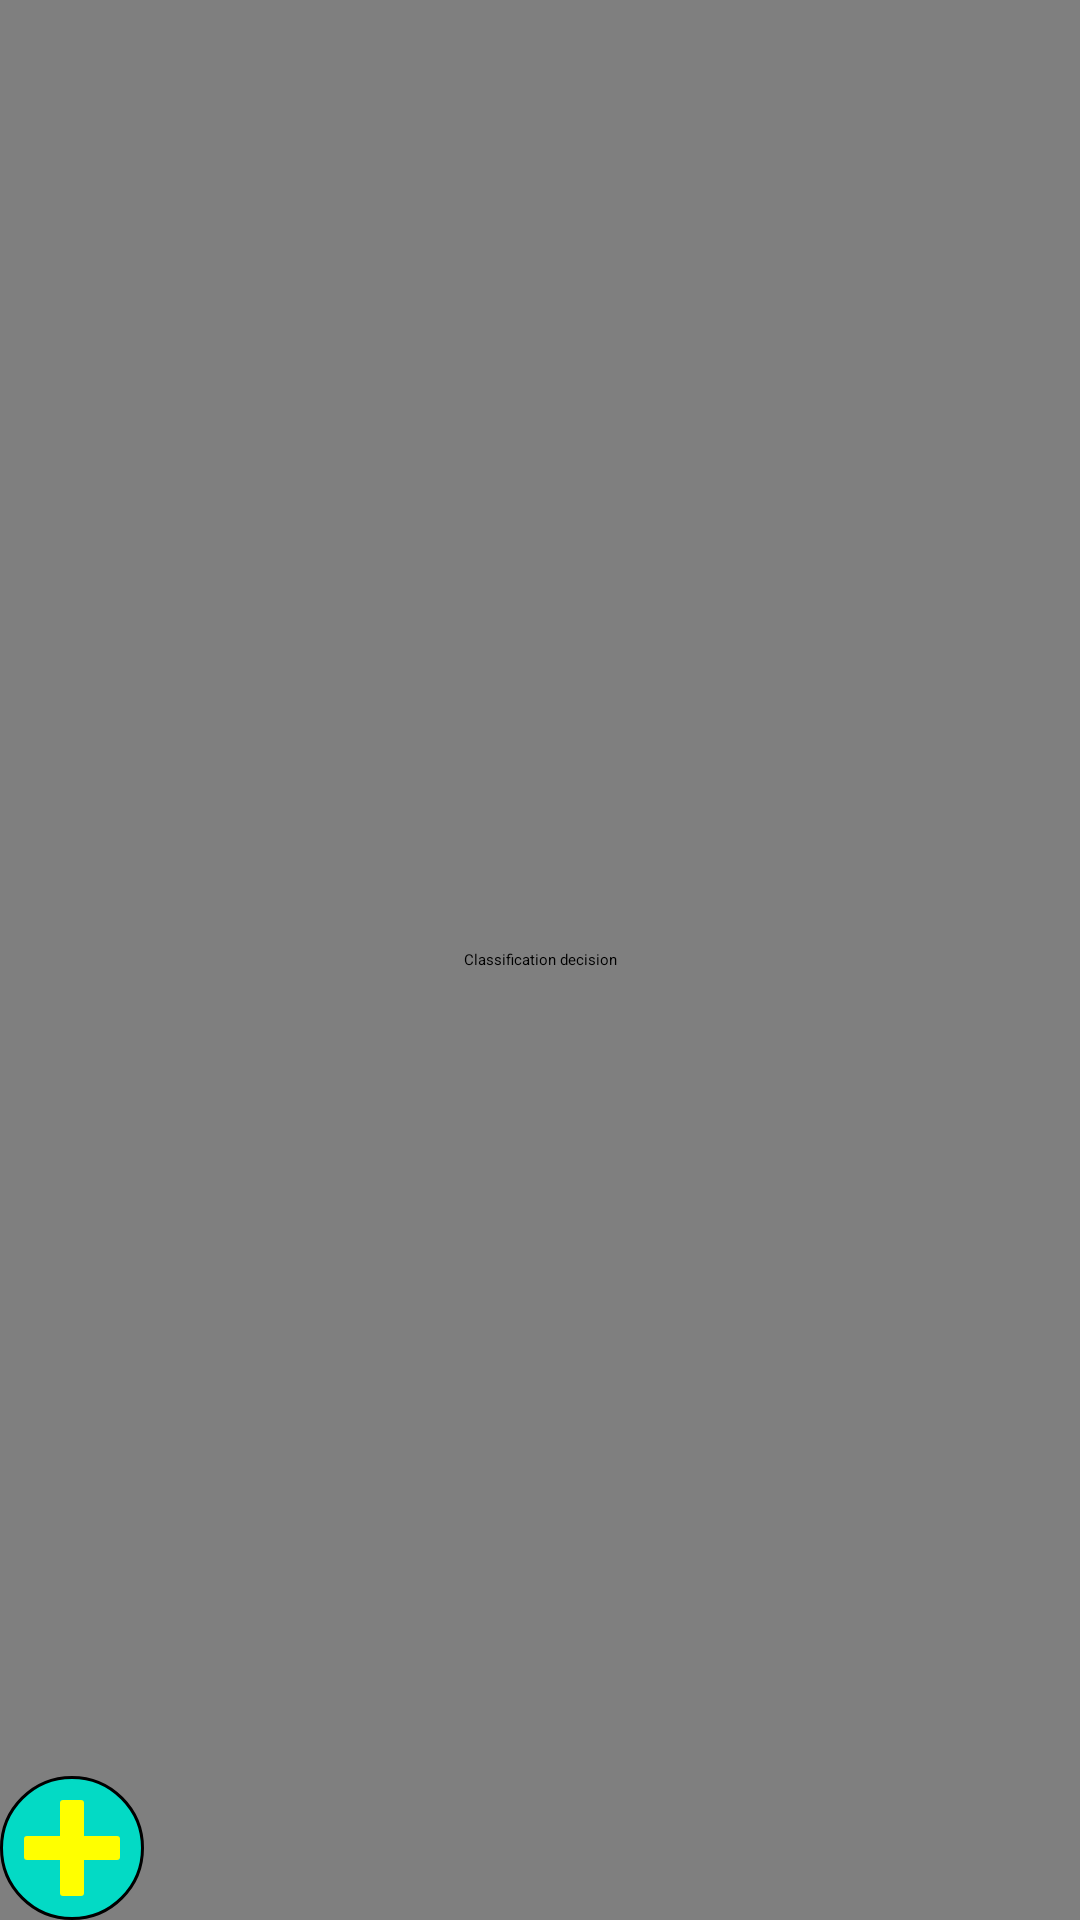

Point at icon controls on the screen. Image size 1080w x 1920h, points as [x,y].
Add new class: [72,1848]
